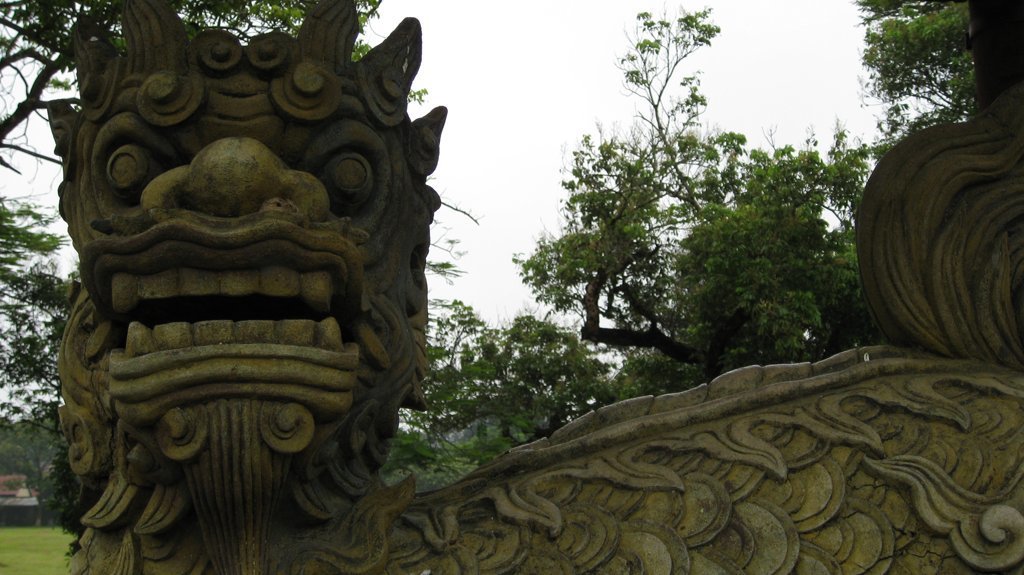Tree: (0, 0, 968, 555)
